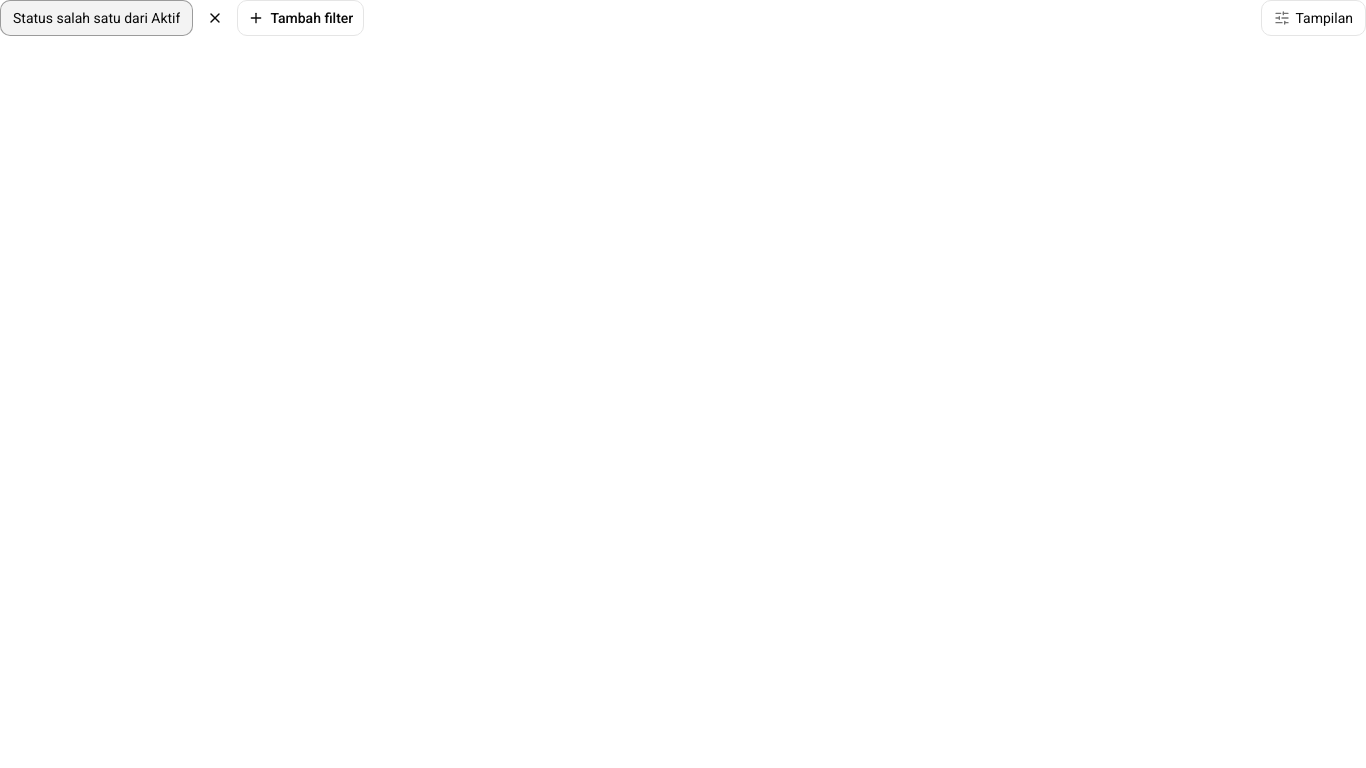
Test case: Tampilan edits apply on Terapkan or close (task 6.1) › removes the filter and closes the popover with Hapus filter inside it
Click the button "Status salah satu dari Aktif".
click(97, 18)  # box [0,0,193,36]
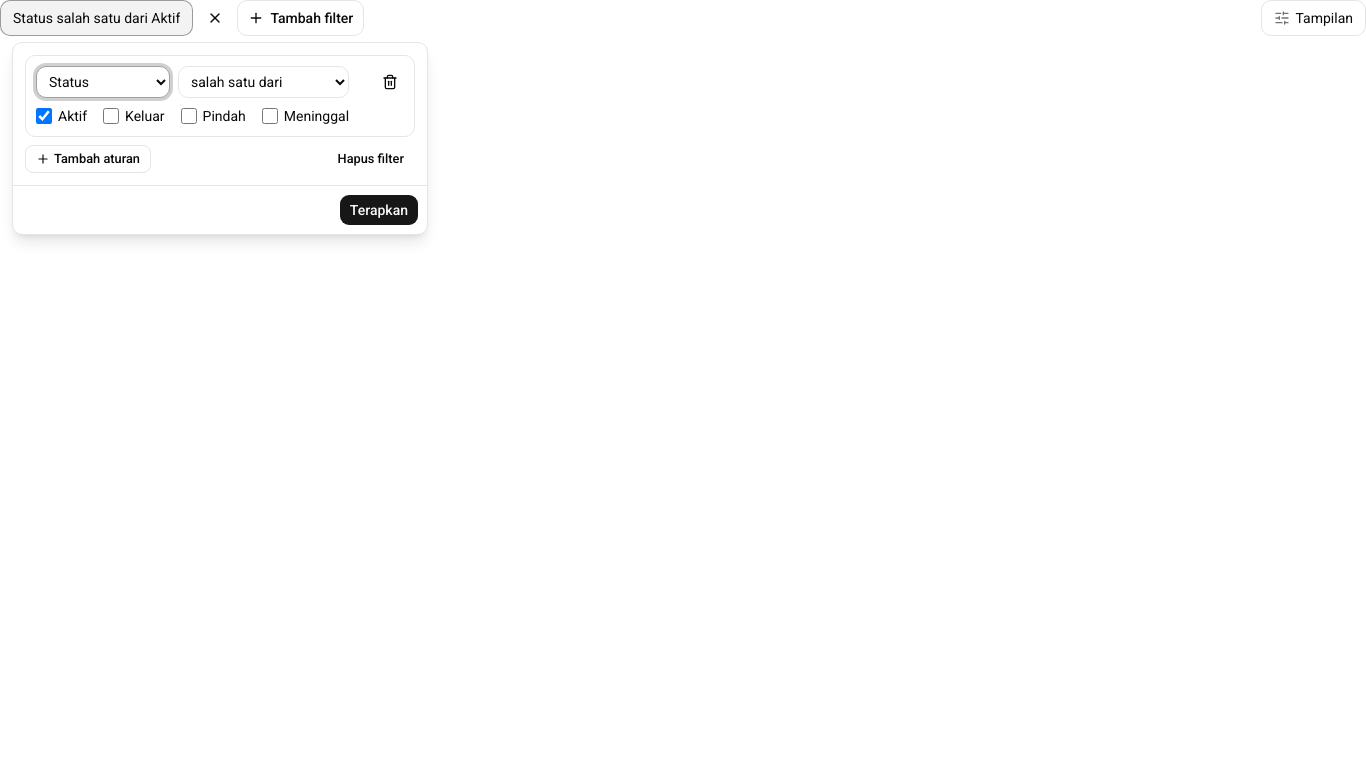
Click the button "Hapus filter".
click(371, 159)  # box [327,145,415,173]
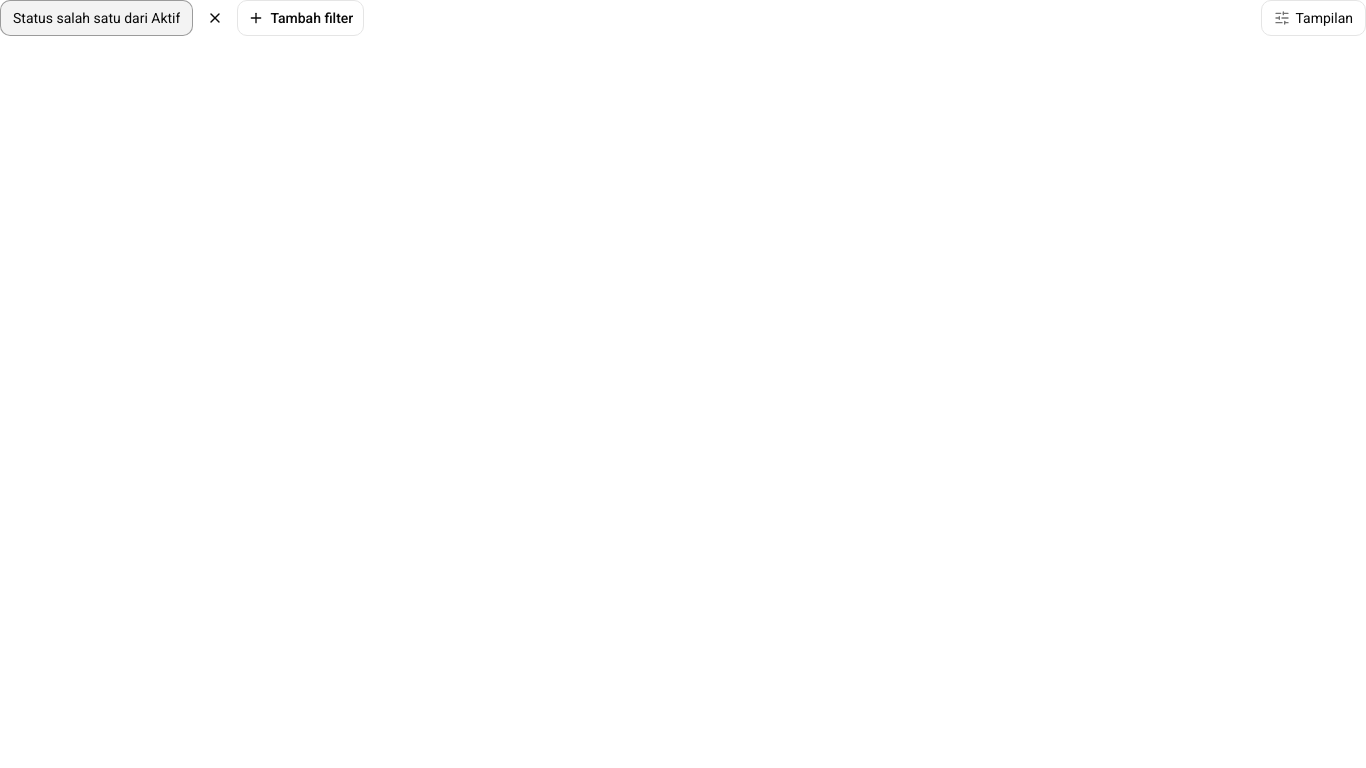
Check: the dialog is gone
